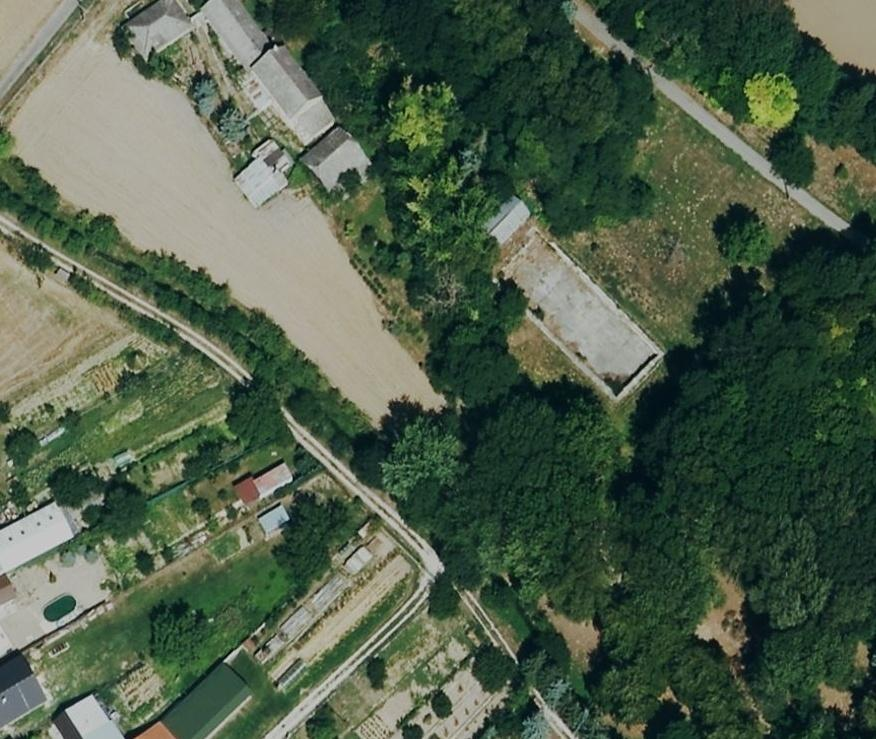field: (10, 33, 443, 419), (0, 245, 128, 400)
forest: (265, 0, 876, 737), (0, 157, 370, 456), (595, 0, 876, 181)
